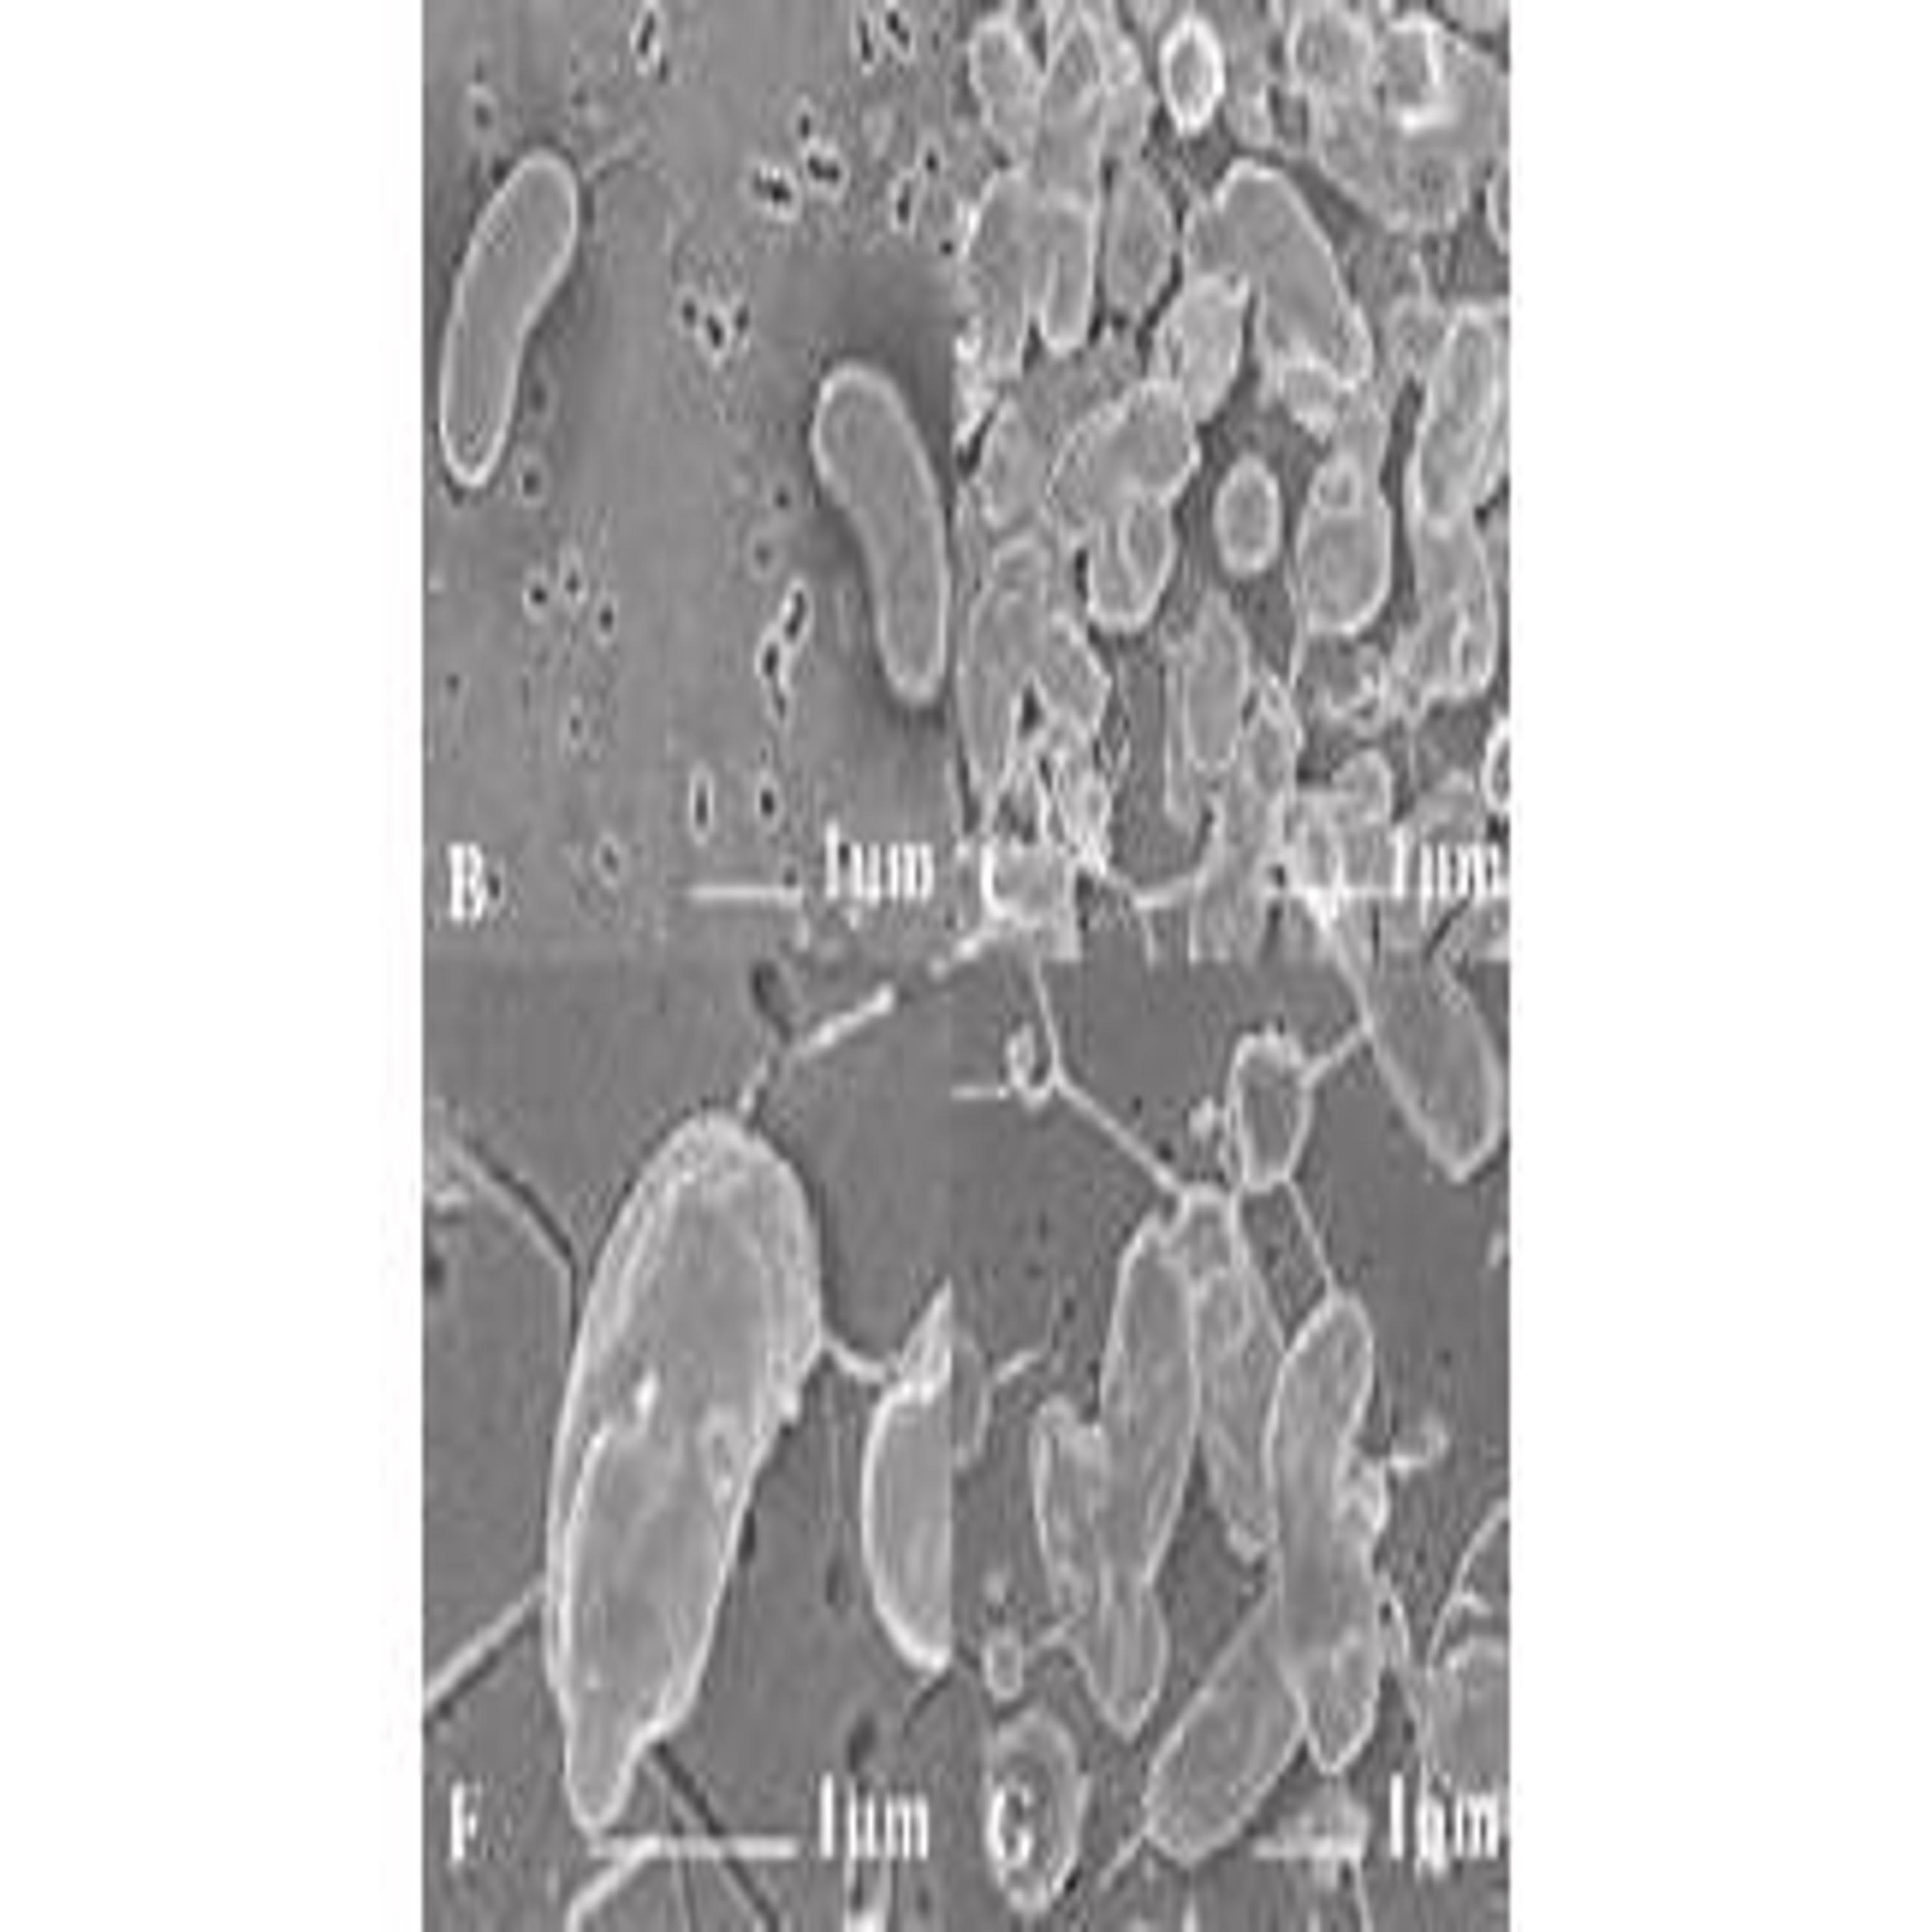Vibrio_cholerae5: (1258, 1288, 1385, 1782), (805, 357, 952, 711), (441, 138, 584, 485)
